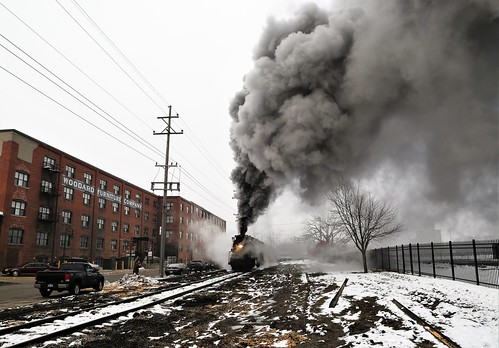building: (1, 145, 225, 270)
car: (34, 259, 104, 294)
sky: (1, 1, 226, 178)
smoke: (235, 1, 499, 228)
train: (229, 232, 268, 277)
train track: (1, 272, 240, 348)
tree: (324, 185, 400, 266)
